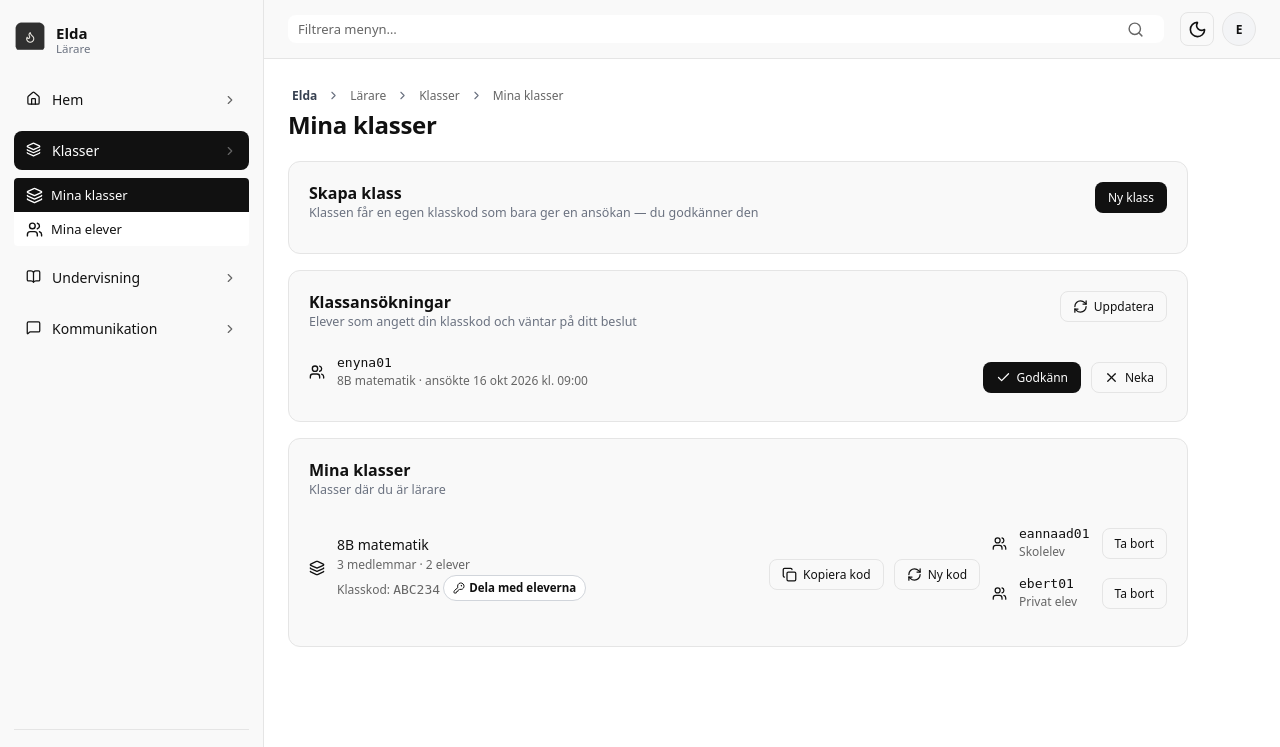
Test: klasser och klassansökningar › skapar en klass och visar den nya klasskoden
Click the button "Ny klass": (1131, 198) [1095,182,1167,213]
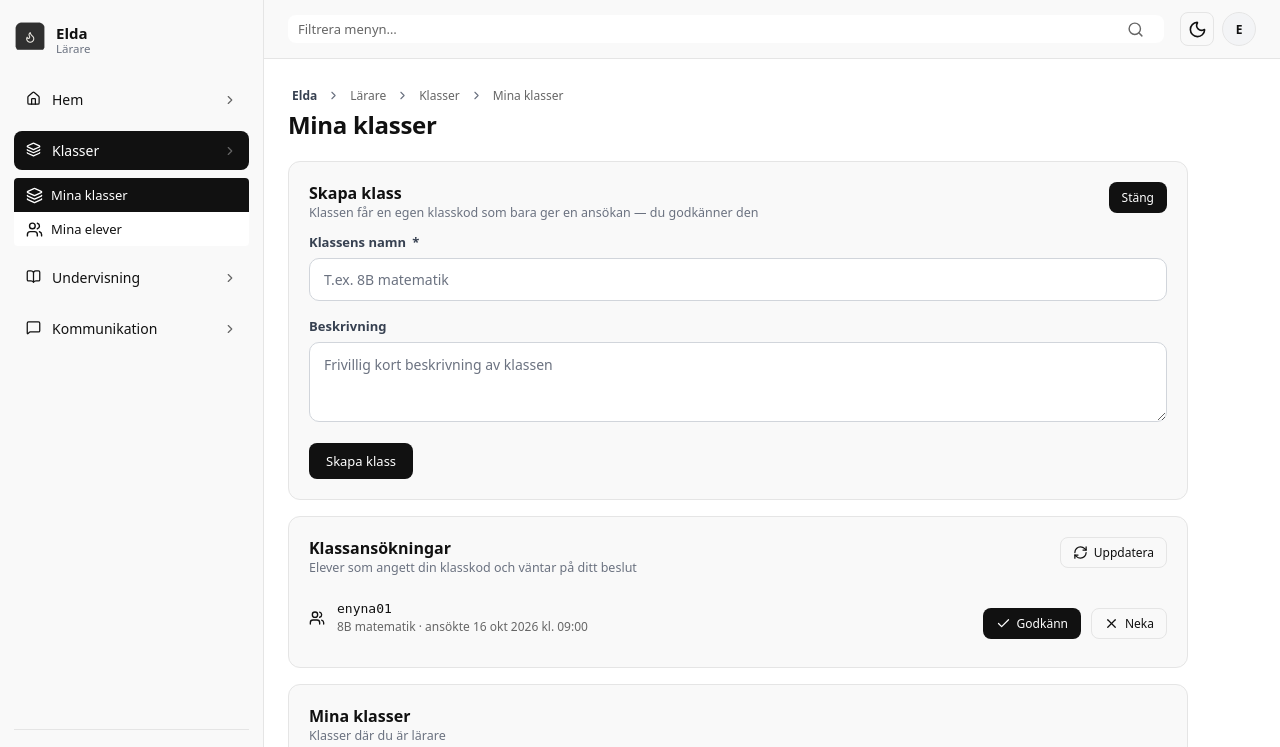
In the field labelled "Klassens namn *": (738, 280) [309,258,1167,301], type "9A fysik"
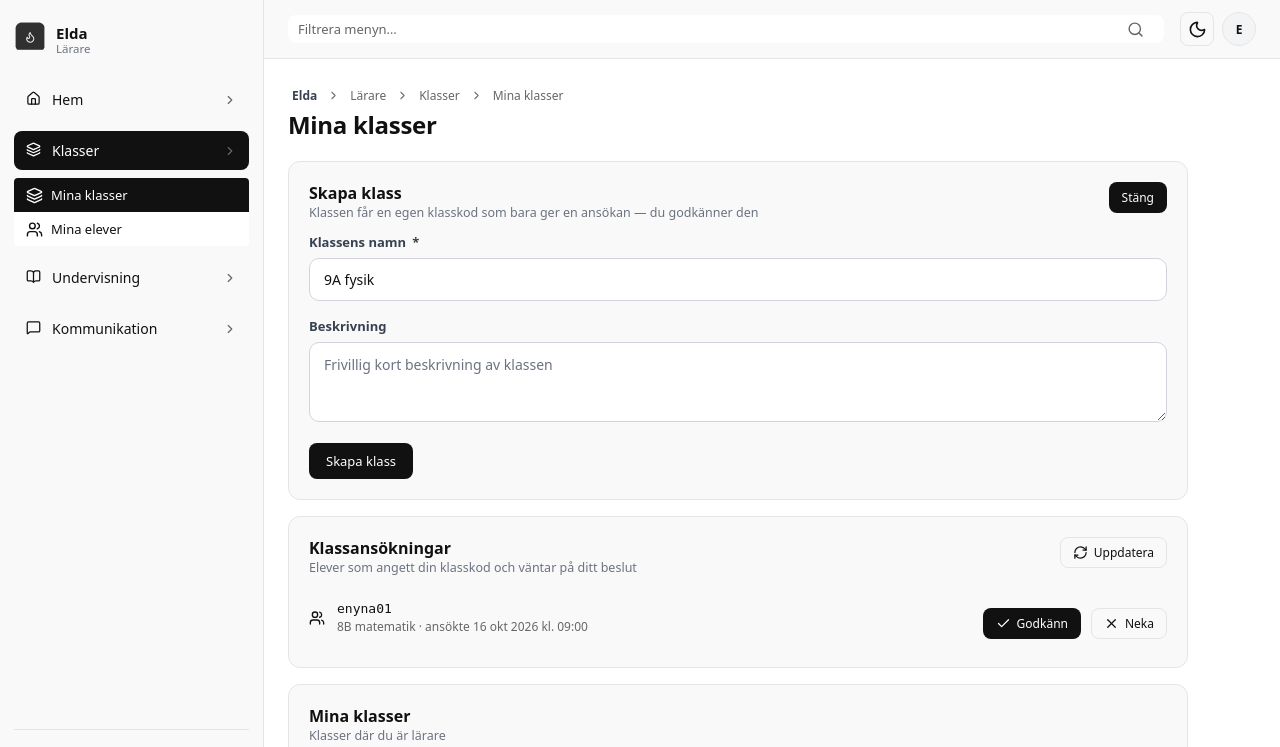
Click the button "Skapa klass": (361, 461) [309,443,413,479]
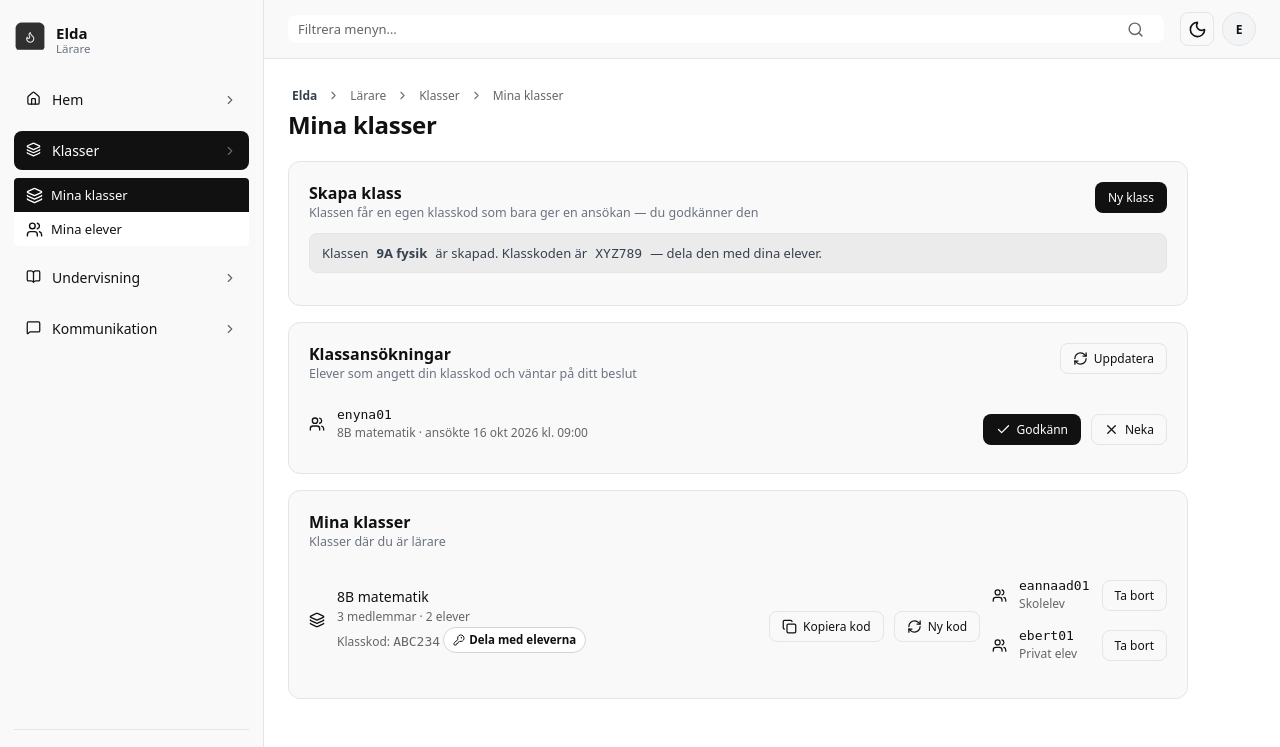
Check: the text "9A fysik" is shown, box [376,244,427,262]
Check: the message "Klassen 9A fysik är skapad. Klasskoden är XYZ789 — dela den med dina elever." is shown, box [309,233,1167,273]
